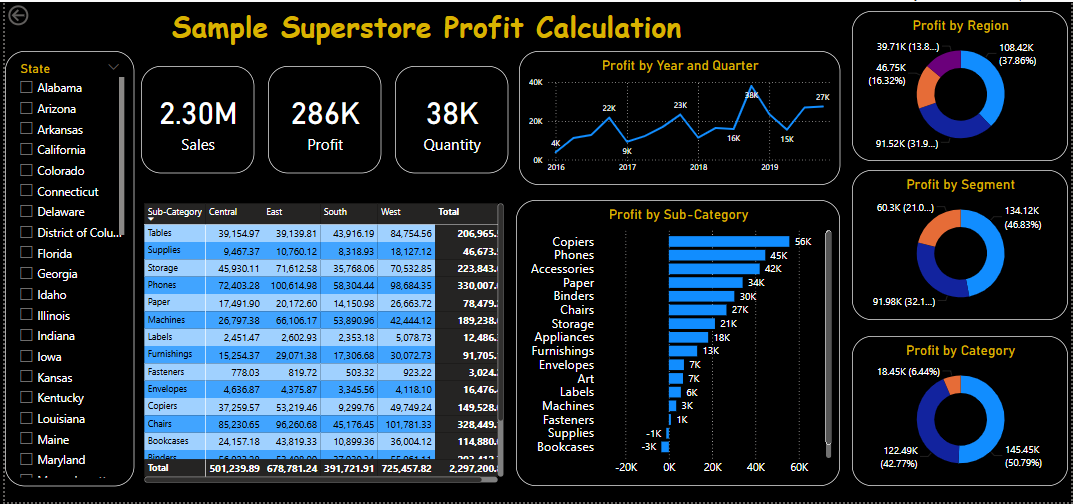

The page's visual inventory and layout, read from the dashboard file:
{"tool":"powerbi","page":{"name":"Profit Calculation","canvas":[1600,750],"ordinal":0},"visuals":[{"type":"textbox","box":[0,0,1264.9,73.9],"z":0},{"type":"donutChart","title":"Profit by Category","fields":{"Category":["Orders.Category"],"Y":["Sum(Orders.Profit)"]},"box":[1264.9,500.1,335.1,249.2],"z":1000},{"type":"donutChart","title":"Profit by Segment","fields":{"Y":["Sum(Orders.Profit)"],"Category":["Orders.Segment"]},"box":[1264.9,254.4,335.1,238.9],"z":2000},{"type":"donutChart","title":"Profit by Region","fields":{"Y":["Sum(Orders.Profit)"],"Category":["Orders.Region"]},"box":[1264.9,13.7,335.1,240.6],"z":3000},{"type":"barChart","title":"Profit by Sub-Category","fields":{"Category":["Orders.Sub-Category"],"Y":["Sum(Orders.Profit)"]},"box":[766.5,319.7,498.4,429.6],"z":4000},{"type":"lineChart","fields":{"Category":["Orders.Order Date.Variation.Date Hierarchy.Year","Orders.Order Date.Variation.Date Hierarchy.Quarter"],"Y":["Sum(Orders.Profit)"]},"box":[771.6,73.9,493.2,245.8],"z":5000},{"type":"slicer","title":"States","fields":{"Values":["Orders.State"]},"box":[0,73.9,194.2,675.4],"z":6000},{"type":"pivotTable","fields":{"Rows":["Orders.Sub-Category"],"Columns":["Orders.Region"],"Values":["Sum(Orders.Sales)"]},"box":[194.2,319.7,572.3,429.6],"z":7000},{"type":"card","fields":{"Values":["Sum(Orders.Sales)"]},"box":[194.2,96.2,178.7,206.2],"z":8000},{"type":"card","fields":{"Values":["Sum(Orders.Profit)"]},"box":[372.9,96.2,201.1,206.2],"z":9000},{"type":"card","fields":{"Values":["Sum(Orders.Quantity)"]},"box":[574,96.2,197.6,206.2],"z":10000},{"type":"actionButton","box":[0,0,100,40],"z":11000}]}

Visuals, with their boxes in screenshot pixels (x1, y1, x2, y2), scaled from the page's 1600x750 canvas onto the 1073x504 screenshot:
textbox: <box>0,0,848,50</box>
"Profit by Category" donutChart: <box>848,336,1072,503</box>
"Profit by Segment" donutChart: <box>848,171,1072,331</box>
"Profit by Region" donutChart: <box>848,9,1072,171</box>
"Profit by Sub-Category" barChart: <box>514,215,848,503</box>
lineChart - Orders.Order Date.Variation.Date Hierarchy.Year x Orders.Order Date.Variation.Date Hierarchy.Quarter: <box>517,50,848,215</box>
"States" slicer: <box>0,50,130,503</box>
pivotTable - Orders.Sub-Category x Orders.Region: <box>130,215,514,503</box>
card - Sum(Orders.Sales): <box>130,65,250,203</box>
card - Sum(Orders.Profit): <box>250,65,385,203</box>
card - Sum(Orders.Quantity): <box>385,65,517,203</box>
actionButton: <box>0,0,67,27</box>
